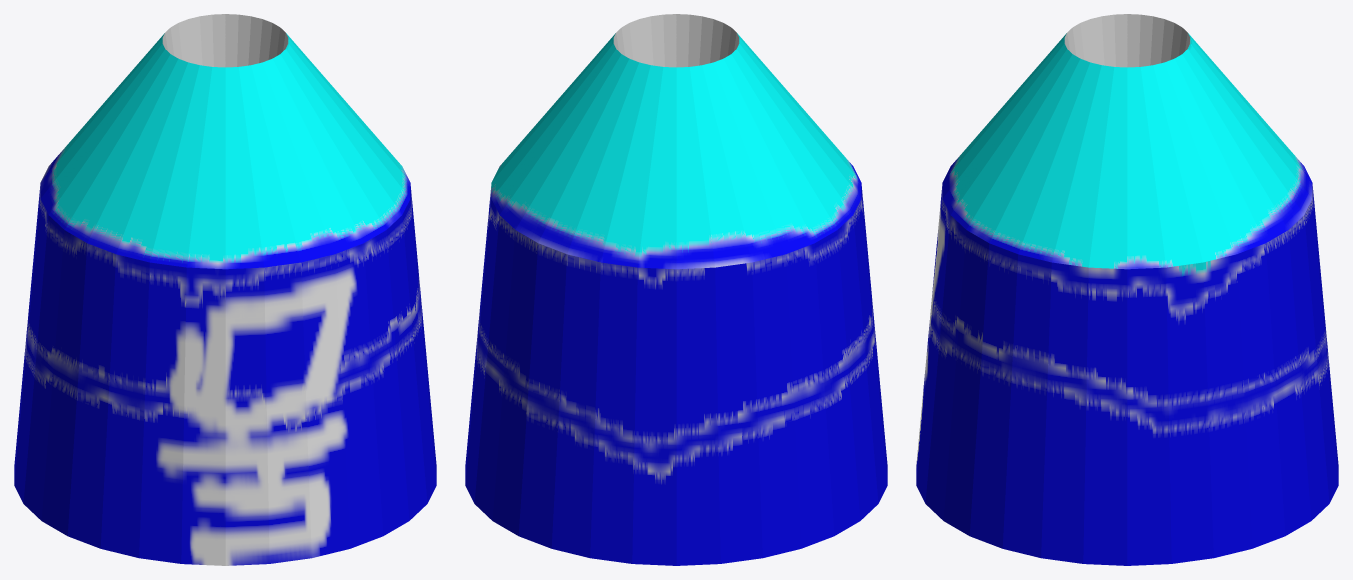
3 renders of one model, left to right at view 1: azimuth 30°, elevation 25°; view 2: azimuth 150°, elevation 25°; view 3: azimuth 270°, elevation 25°, orthographic.
Visible parts, largest first — view 1: algeomath (1); view 2: algeomath (1); view 3: algeomath (1).
Part boxes in pixels (x1,y1,x2,y2): algeomath (1): (14, 14, 436, 565); algeomath (1): (465, 14, 887, 565); algeomath (1): (916, 14, 1338, 565).
Bounding box in the file's own units: 0.2612 × 0.3 × 0.2598.
Materials: 1 (1 with a texture image).
